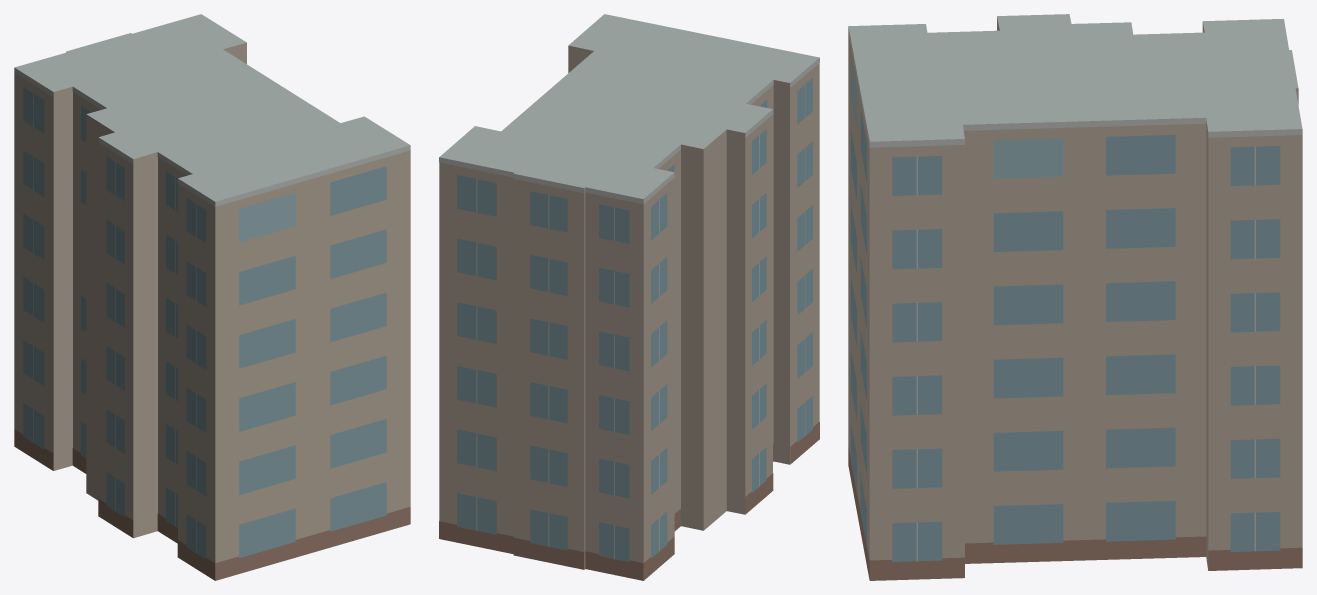
The model's file is survey-upis-32701914.glb.
3 renders of one model, left to right at view 1: azimuth 30°, elevation 25°; view 2: azimuth 150°, elevation 25°; view 3: azimuth 270°, elevation 25°, orthographic. The views are drawn at different scales.
Parts seen in each view (by area): view 1: survey-upis-32701914.tmp; view 2: survey-upis-32701914.tmp; view 3: survey-upis-32701914.tmp.
Boxes of the visible parts, left/top/right/bottom form: survey-upis-32701914.tmp: left=14, top=14, right=410, bottom=580; survey-upis-32701914.tmp: left=439, top=14, right=819, bottom=580; survey-upis-32701914.tmp: left=848, top=14, right=1302, bottom=580.
Size of the model in its own units: 11.24 by 18 by 16.88.
